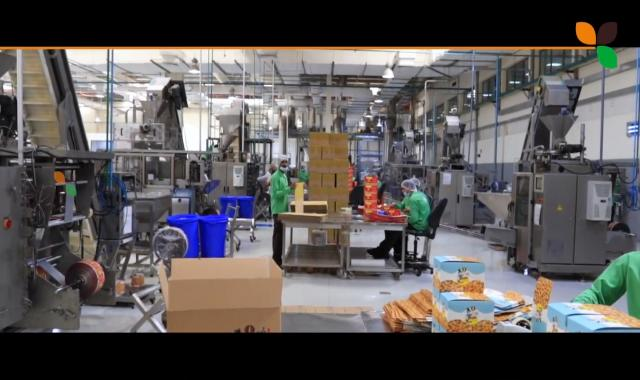hairnet: (401, 179, 418, 194), (275, 154, 286, 170)
